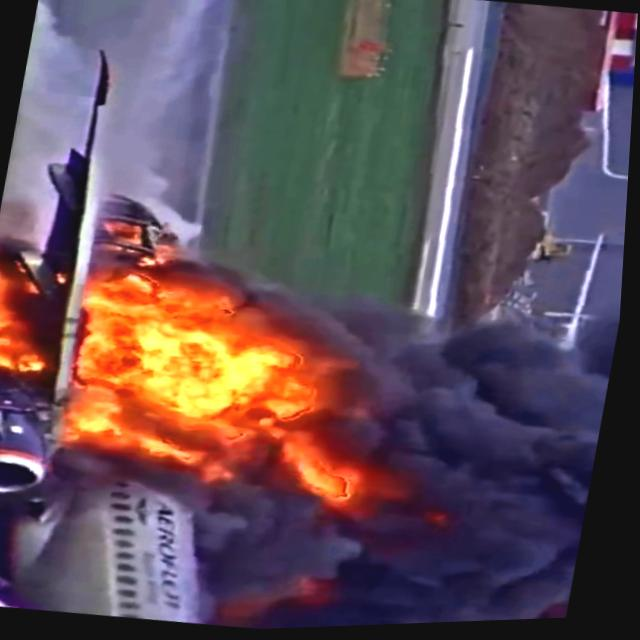fire: (86, 296, 351, 485), (0, 289, 75, 394)
